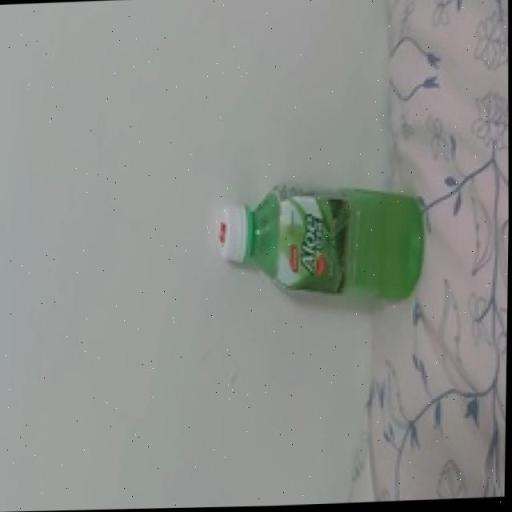plastic: (219, 187, 427, 306)
